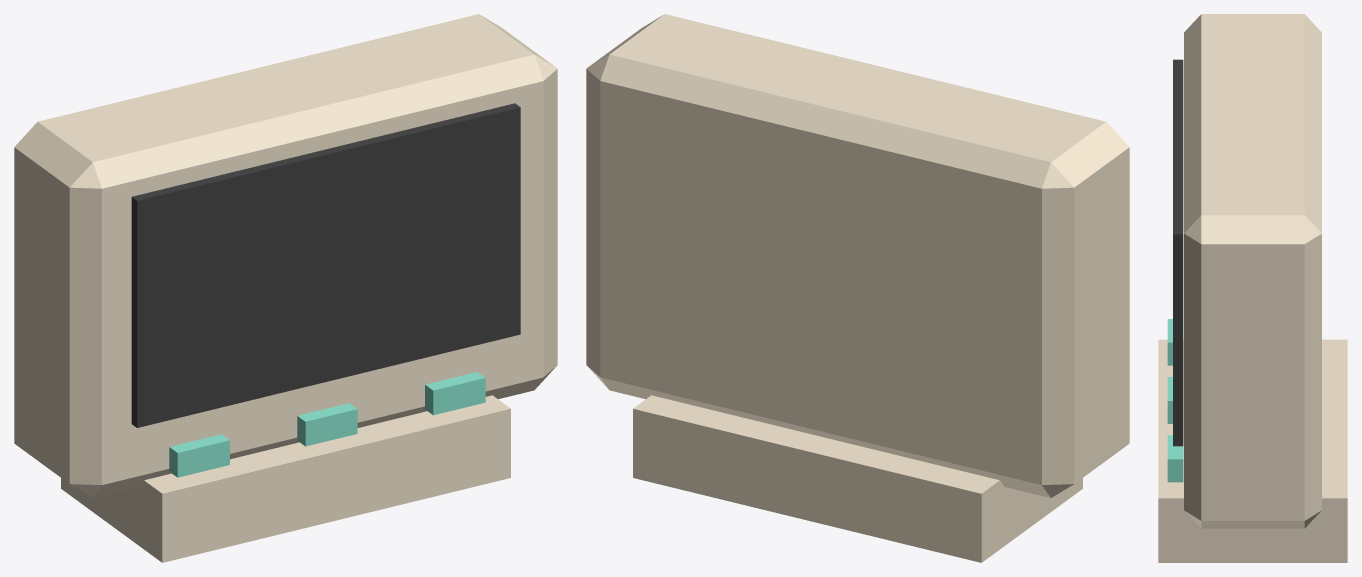
3 renders of one model, left to right at view 1: azimuth 30°, elevation 25°; view 2: azimuth 150°, elevation 25°; view 3: azimuth 270°, elevation 25°, orthographic. The views are drawn at different scales.
Visible parts, largest first — view 1: Housing, Readout, Foot, Control, Control.001, Control.002; view 2: Housing, Foot; view 3: Housing, Foot, Readout, Control.002, Control, Control.001.
Part boxes in pixels (x1,y1,x2,y2): Housing: (14, 14, 557, 497); Readout: (131, 103, 520, 427); Foot: (61, 395, 510, 562); Control: (169, 434, 229, 477); Control.001: (297, 403, 357, 446); Control.002: (425, 372, 485, 415); Housing: (586, 14, 1129, 497); Foot: (633, 395, 1082, 562); Housing: (1184, 14, 1321, 528); Foot: (1158, 339, 1347, 562); Readout: (1173, 59, 1183, 446); Control.002: (1167, 435, 1183, 482); Control: (1167, 319, 1172, 365); Control.001: (1167, 377, 1172, 423).
Bounding box in the file's own units: 67.2 × 52 × 24.2.
